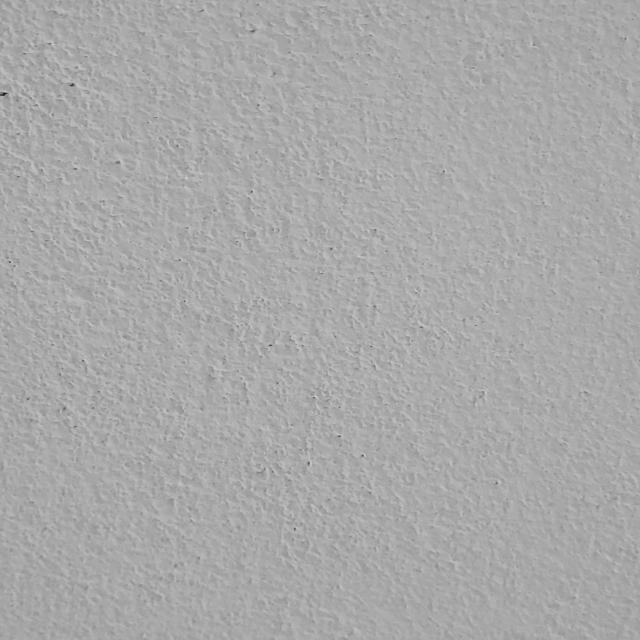rough and patchy surface: (9, 9, 630, 634)
